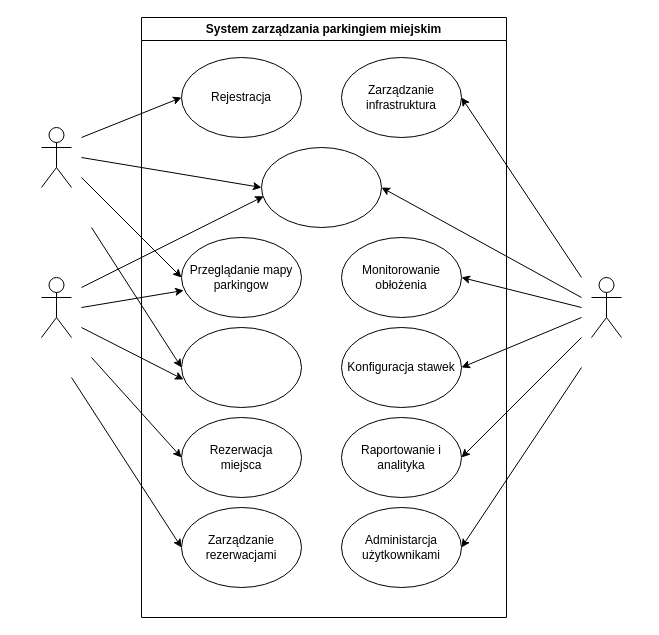
The diagram is 659 pixels wide and 635 high, and some of its shapes have lost their labels. The centre of each missing label's shape, as x and y in pixels:
"Administrator" belongs at (606,307).
"Logowanie" belongs at (321,187).
"Użytkownik niezalogowany" belongs at (56,157).
"Użytkownik zalogowany" belongs at (56,307).
"Wyszukiwanie i filtrowanie" belongs at (241,367).
